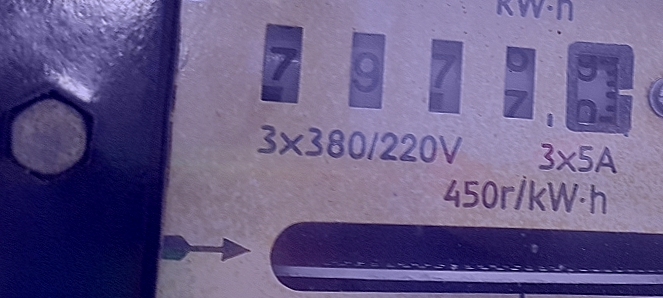0: (573, 95, 597, 125)
7: (264, 41, 299, 87), (501, 80, 532, 123), (429, 50, 459, 91)
9: (349, 48, 382, 96), (573, 51, 604, 84)
screen: (246, 11, 651, 148)
